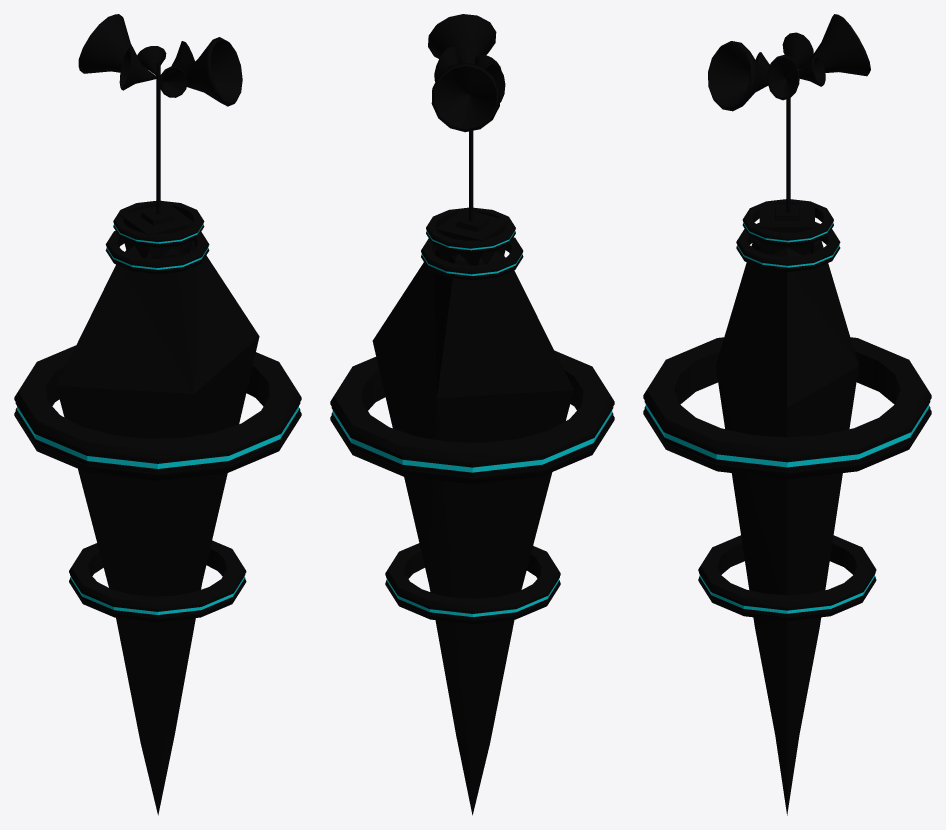
The model's file is Crystal.fbx.
3 views of the same model, side by side, from view 1: azimuth 30°, elevation 25°; view 2: azimuth 150°, elevation 25°; view 3: azimuth 270°, elevation 25° (orthographic).
Parts seen in each view (by area): view 1: Crystal; view 2: Crystal; view 3: Crystal.
Part boxes in pixels (bbox=[...]): Crystal: bbox=[14, 14, 301, 815]; Crystal: bbox=[330, 14, 614, 815]; Crystal: bbox=[643, 14, 931, 815].
Size of the model in its own units: 2.25 by 6.78 by 2.25.
